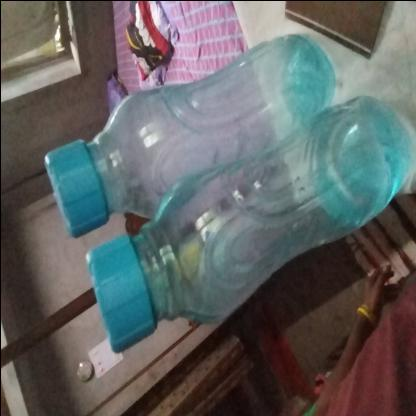bottle: (172, 1, 371, 306), (127, 1, 283, 358)
